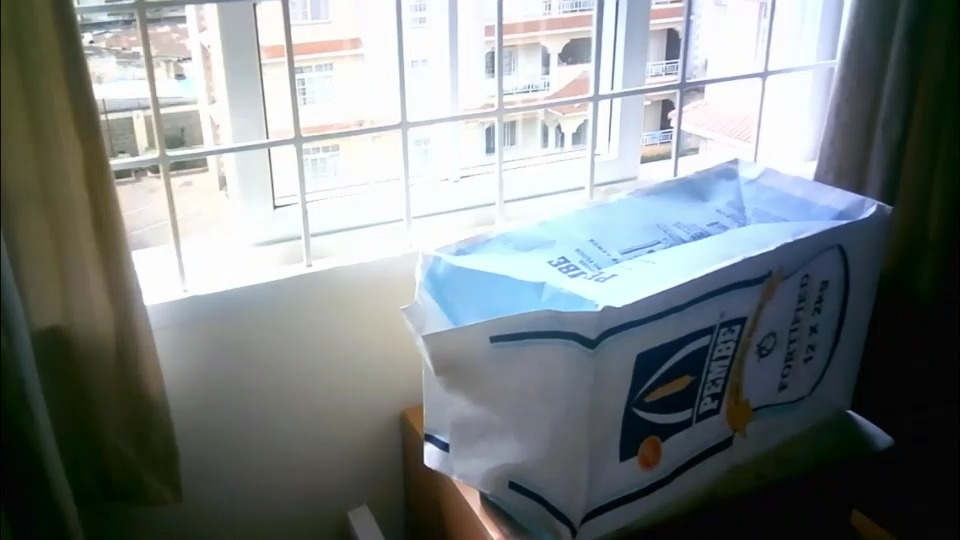wheat_flour_blue_label: (405, 155, 897, 537)
